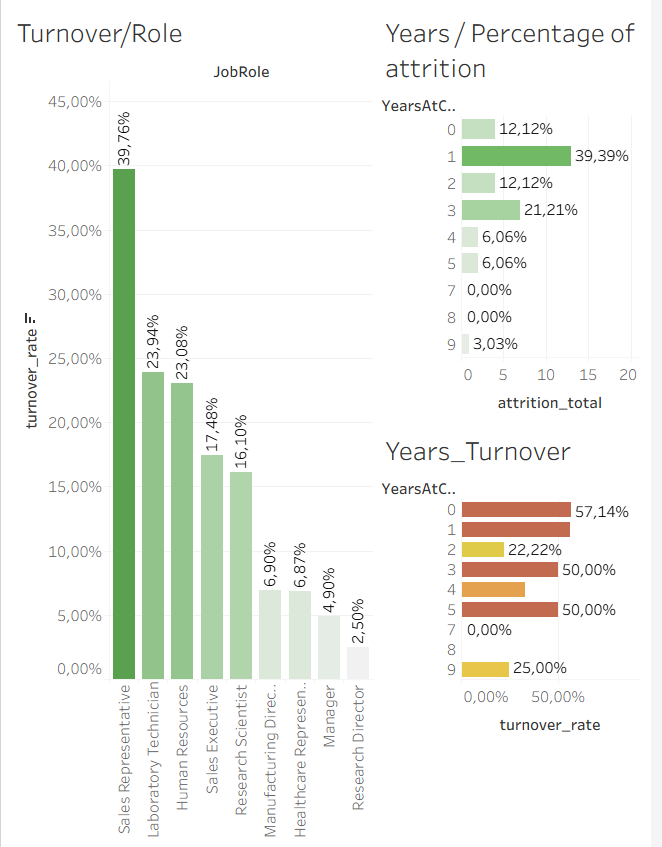

Layout of this report page (visuals, bound fields, positions):
{"tool":"tableau","page":{"name":"Dashboard 2","canvas":[650,860],"ordinal":1},"visuals":[{"type":"worksheet","title":"Sheet 8","mark":"Automatic","rows":["Calculation_1020934272815108"],"cols":["JobRole"],"box":[8,8.1,368,843.8]},{"type":"worksheet","title":"Sheet 7","mark":"Automatic","rows":["YearsAtCompany"],"cols":["Calculation_1020934268203009"],"box":[376,8.1,266,421.9]},{"type":"worksheet","title":"Sheet 6","mark":"Automatic","rows":["YearsAtCompany"],"cols":["Calculation_1020934272815108"],"box":[376,430,266,421.9]}]}

Visuals, with their boxes on the page's 650x860 design canvas (x1, y1, x2, y2). These are canvas units, not pixel positions in the 662x847 screenshot, which may show the page scaled, cropped or inside an application window:
"Sheet 8" worksheet: <box>8,8,376,852</box>
"Sheet 7" worksheet: <box>376,8,642,430</box>
"Sheet 6" worksheet: <box>376,430,642,852</box>
